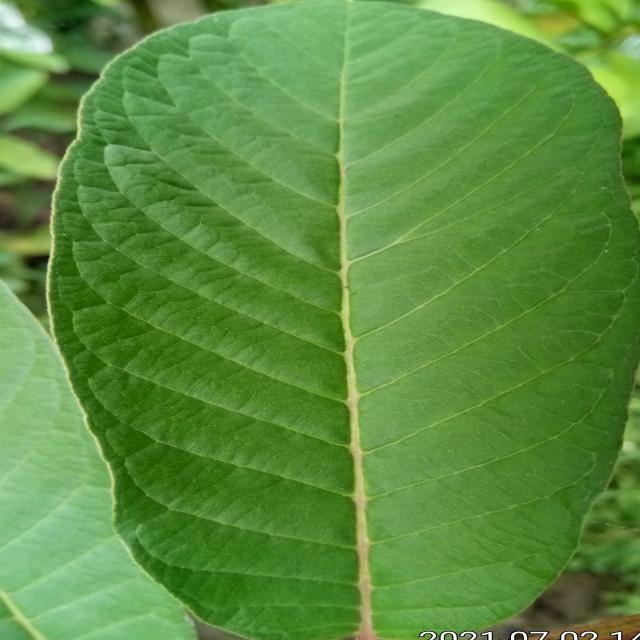Disease Free: (49, 1, 637, 640), (0, 284, 197, 640)
